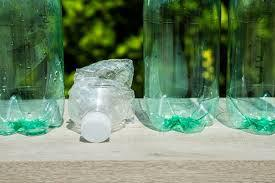Plastic: (138, 0, 223, 137), (0, 0, 69, 139), (66, 55, 139, 147)
